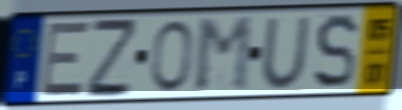E: (38, 19, 93, 100)
M: (193, 14, 255, 95)
O: (150, 18, 194, 95)
S: (312, 11, 360, 92)
U: (259, 14, 312, 92)
Z: (84, 16, 138, 101)
